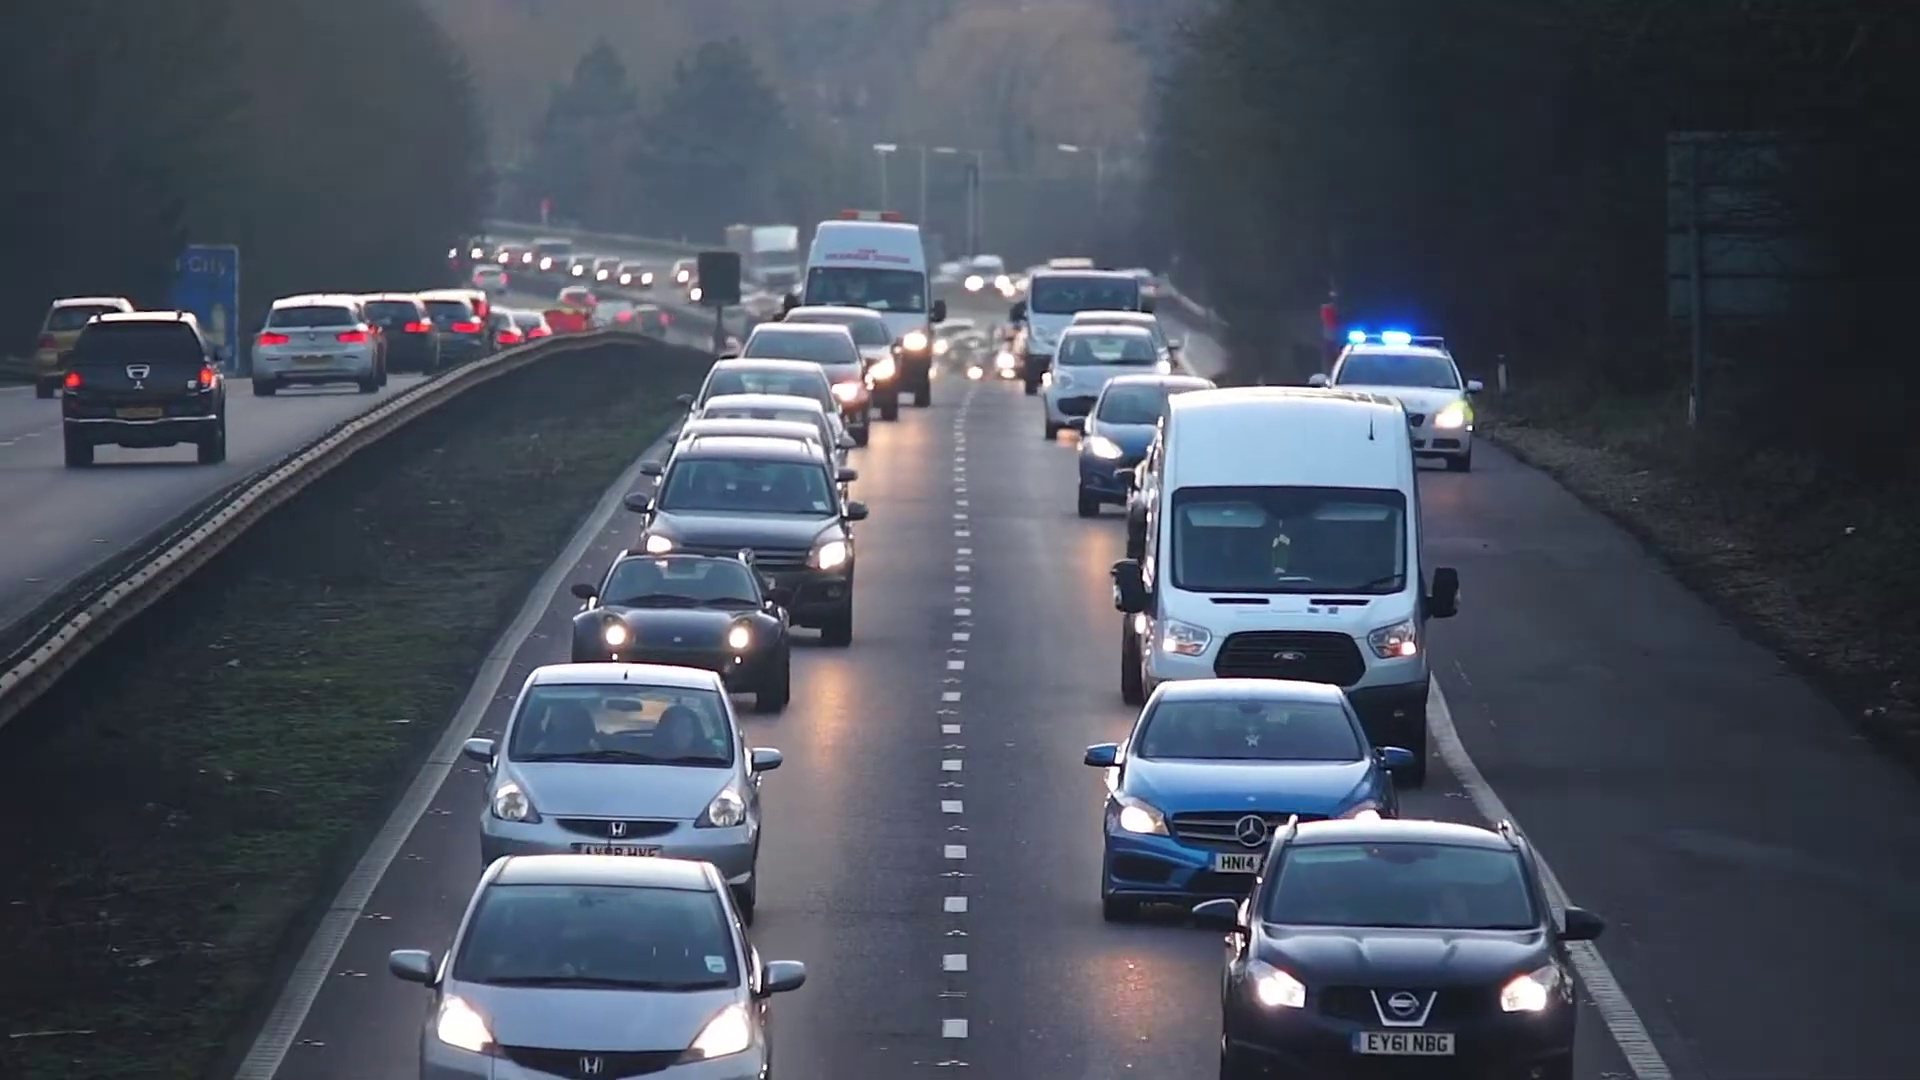license_plate: (1350, 1027, 1459, 1061)
